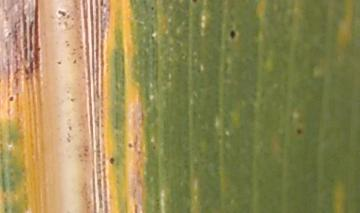tarspot: (226, 27, 241, 42), (104, 154, 121, 167), (293, 123, 304, 137), (6, 93, 17, 105), (146, 4, 158, 14), (125, 140, 135, 150), (189, 1, 201, 5)
